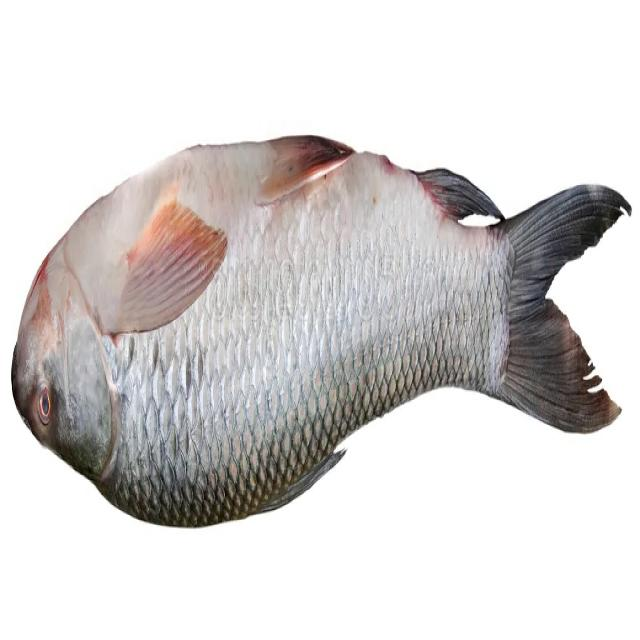Rohu: (11, 134, 633, 531)
